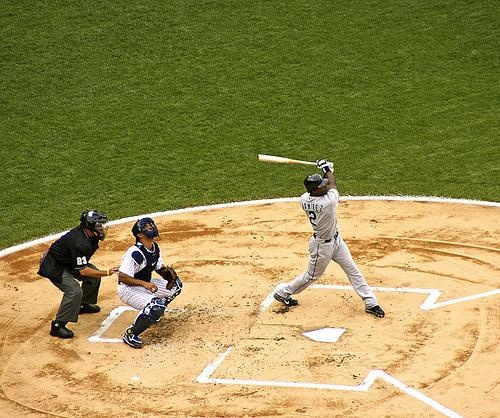person: (266, 160, 387, 318), (37, 209, 115, 341), (118, 221, 185, 343)
